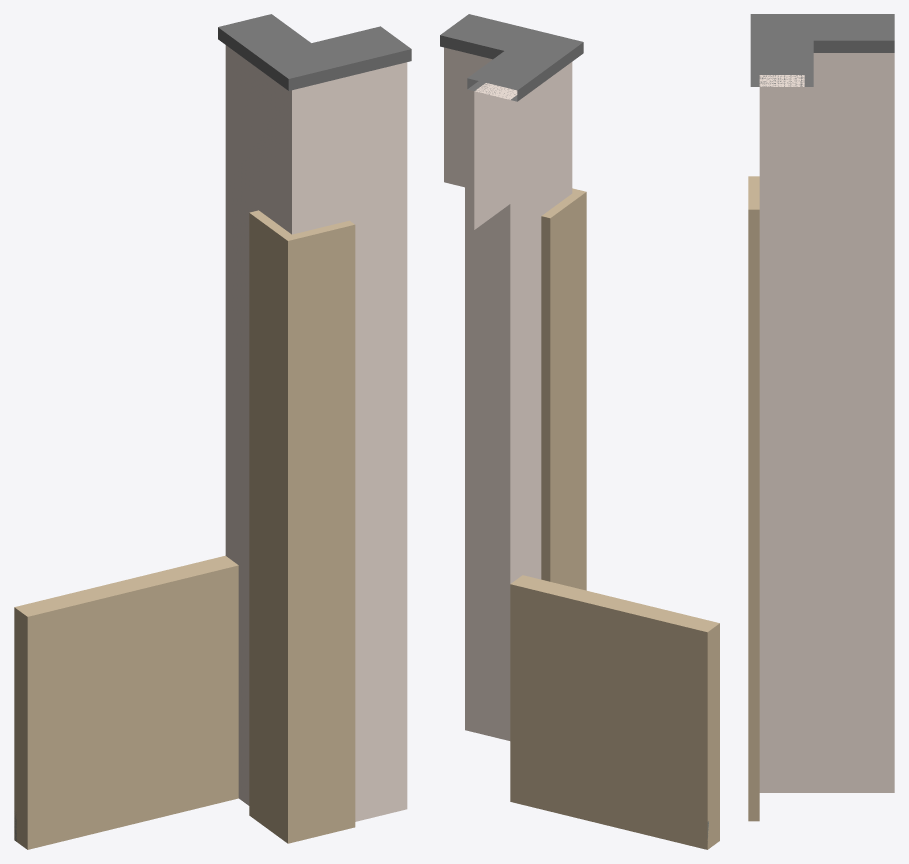
File: top-c2.fbx
3 views of the same model, side by side, from view 1: azimuth 30°, elevation 25°; view 2: azimuth 150°, elevation 25°; view 3: azimuth 270°, elevation 25° (orthographic). The views are drawn at different scales.
Visible parts, largest first — view 1: a2001/200/top-c2; view 2: a2001/200/top-c2; view 3: a2001/200/top-c2.
Boxes of the visible parts, box(x1,y1,x2,y2) form: a2001/200/top-c2: box(14, 14, 411, 849); a2001/200/top-c2: box(440, 14, 719, 849); a2001/200/top-c2: box(748, 14, 894, 821).
Size of the model in its own units: 1.7 by 3.8 by 0.65.
